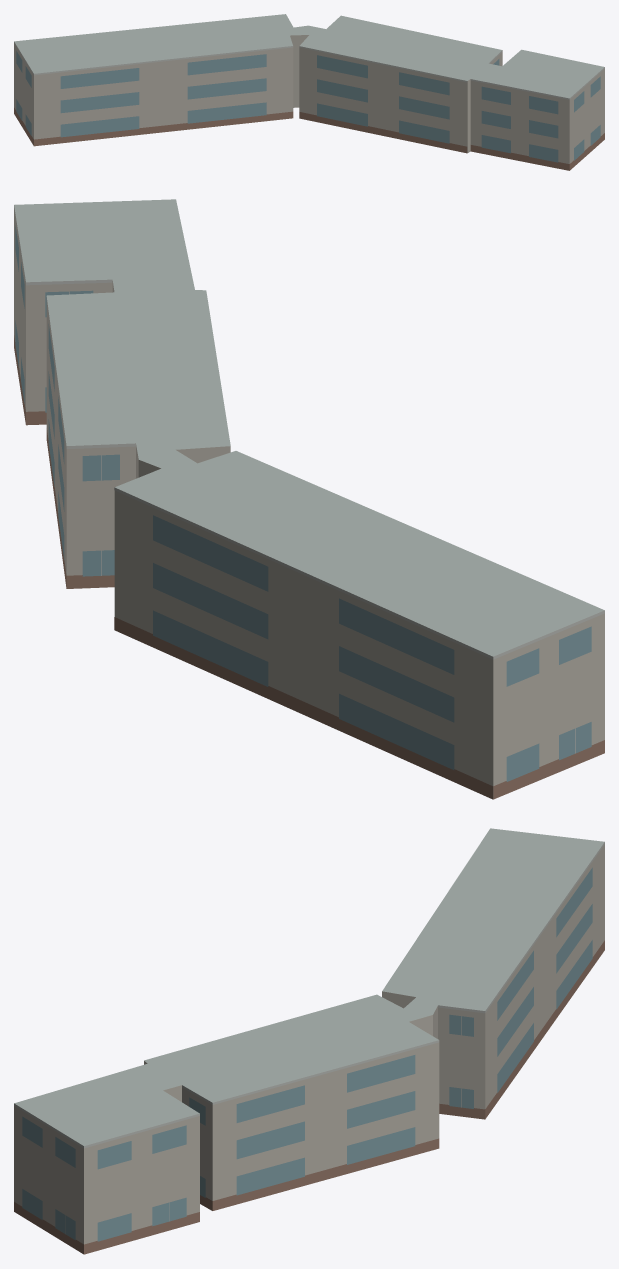
Rendered from survey-upis-32918003.glb.
The picture shows the model from 3 angles, top to bottom: view 1: azimuth 30°, elevation 25°; view 2: azimuth 150°, elevation 25°; view 3: azimuth 270°, elevation 25°; orthographic projection. The views are drawn at different scales.
Parts seen in each view (by area): view 1: survey-upis-32918003.tmp; view 2: survey-upis-32918003.tmp; view 3: survey-upis-32918003.tmp.
Part boxes in pixels (x1,y1,x2,y2): survey-upis-32918003.tmp: (14, 14, 604, 170); survey-upis-32918003.tmp: (14, 199, 604, 799); survey-upis-32918003.tmp: (14, 828, 604, 1254).
Bounding box in the file's own units: 72.95 × 11.6 × 57.31.
